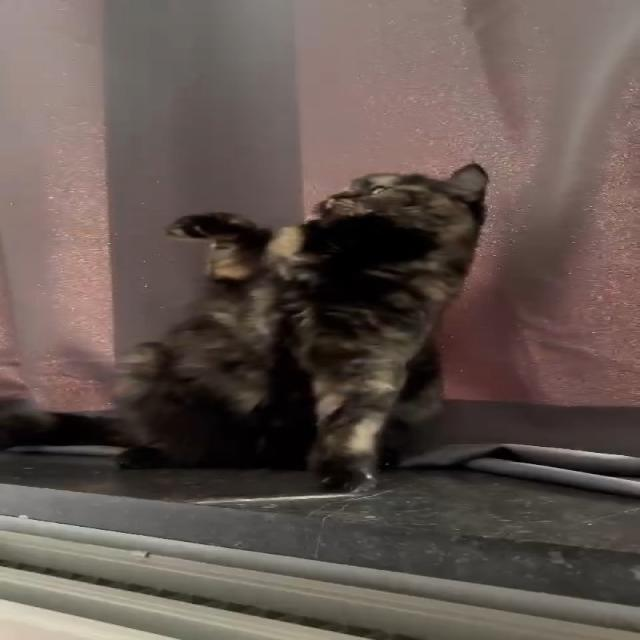authorized: (107, 162, 490, 494)
